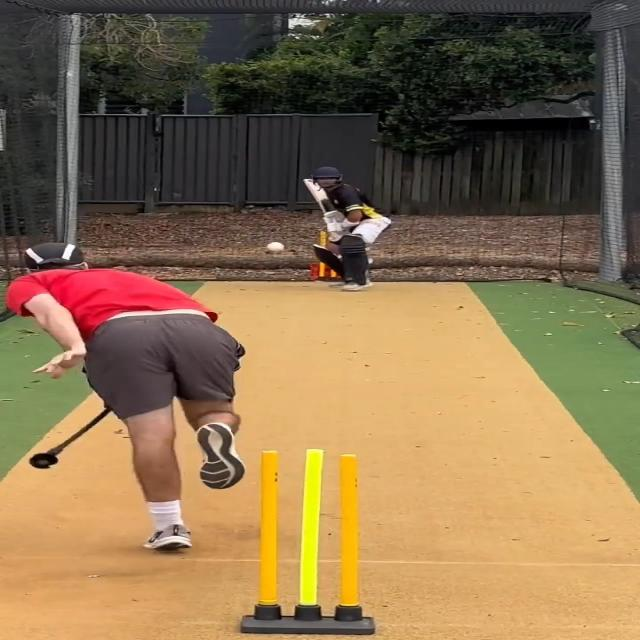ball: (265, 240, 288, 256)
stump: (238, 446, 376, 636)
